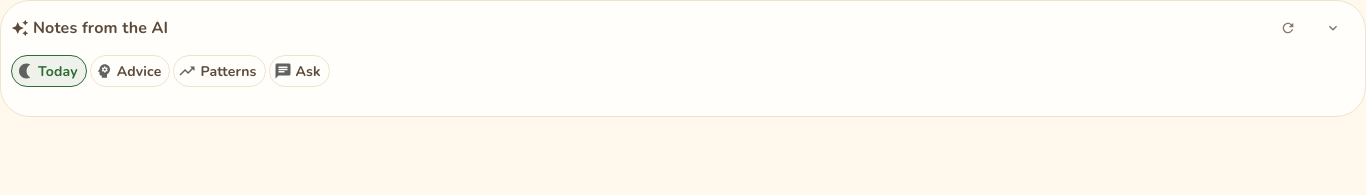
Scenario: AIInsightsCard: Notes from the AI (UX review 2026-10-17, D-11) › a note ends with what it was written from, when, and that it can be wrong
The width and height of the screenshot is (1366, 195).
Click the button "Advice" at (130, 71), box [90,55,170,87]
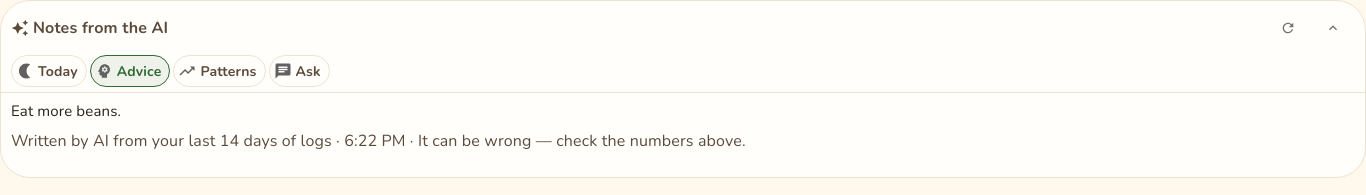
Now the text "Eat more beans." is shown, box [11,101,121,121]
